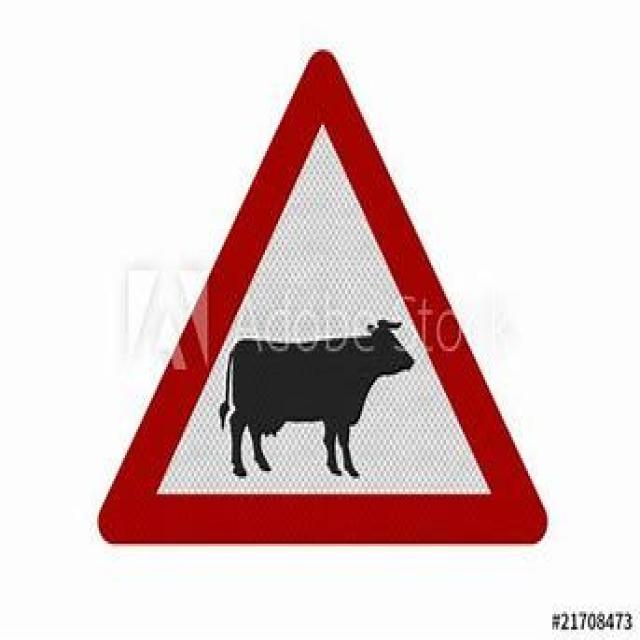CATTLE: (94, 51, 549, 562)
